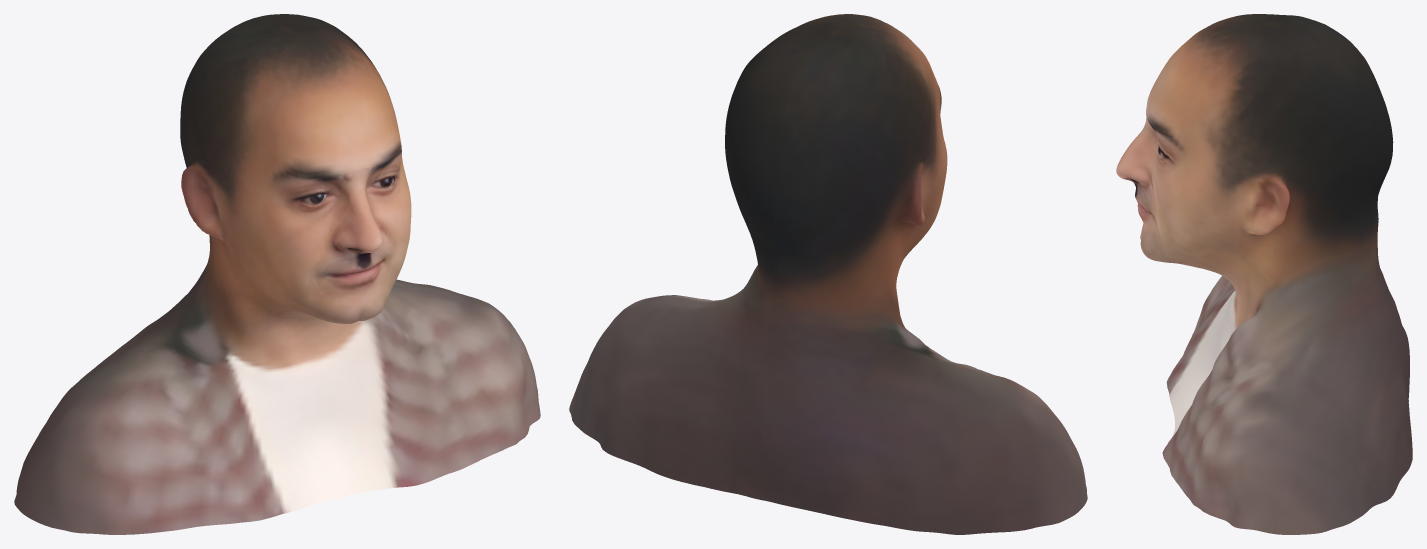
File: head2.glb
The picture shows the model from 3 angles, left to right: view 1: azimuth 30°, elevation 25°; view 2: azimuth 150°, elevation 25°; view 3: azimuth 270°, elevation 25°; orthographic projection. The views are drawn at different scales.
Visible parts, largest first — view 1: Object_2; view 2: Object_2; view 3: Object_2.
Part boxes in pixels (left/top/right/bottom): Object_2: left=14, top=14, right=540, bottom=534; Object_2: left=569, top=14, right=1087, bottom=534; Object_2: left=1116, top=14, right=1412, bottom=534.
Bounding box in the file's own units: 0.453 × 0.3675 × 0.2476.
1 material, 1 textured.
